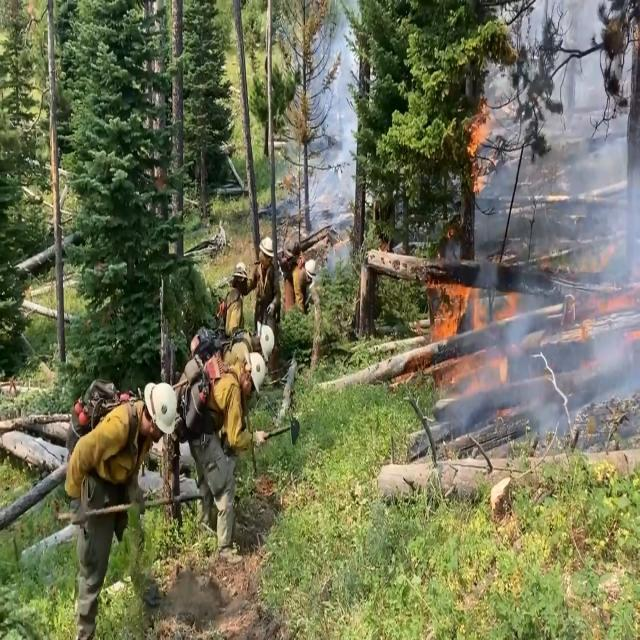Fire: (398, 90, 637, 448)
